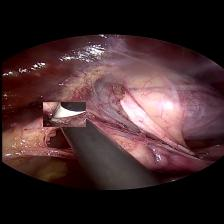Hook: (42, 102, 85, 127)
